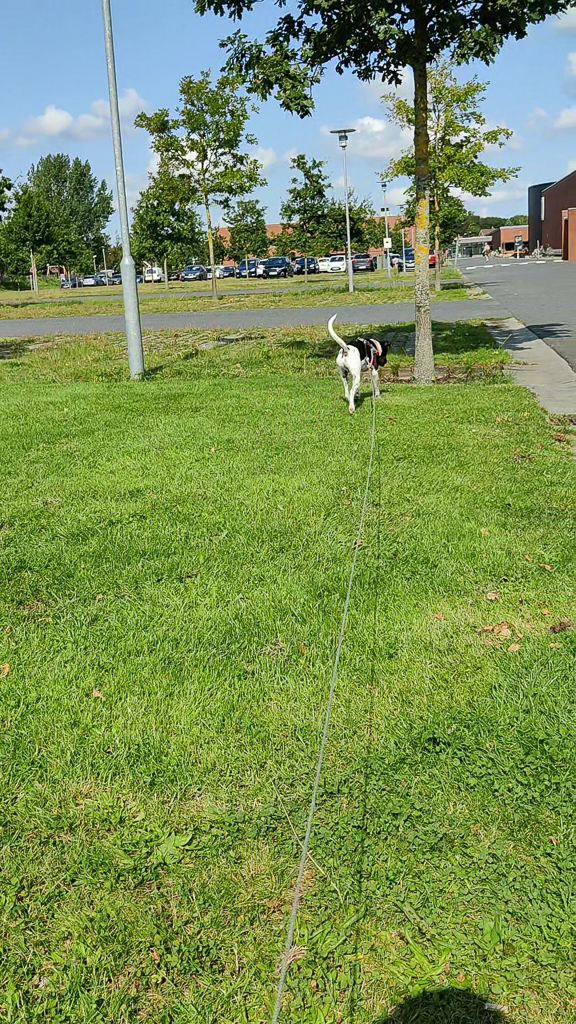Dog: (318, 307, 402, 424)
